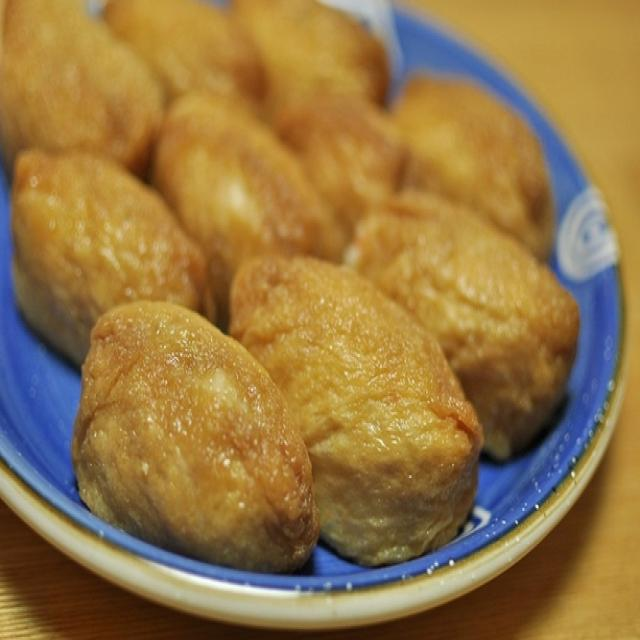寿司卷物: (3, 16, 616, 602)
